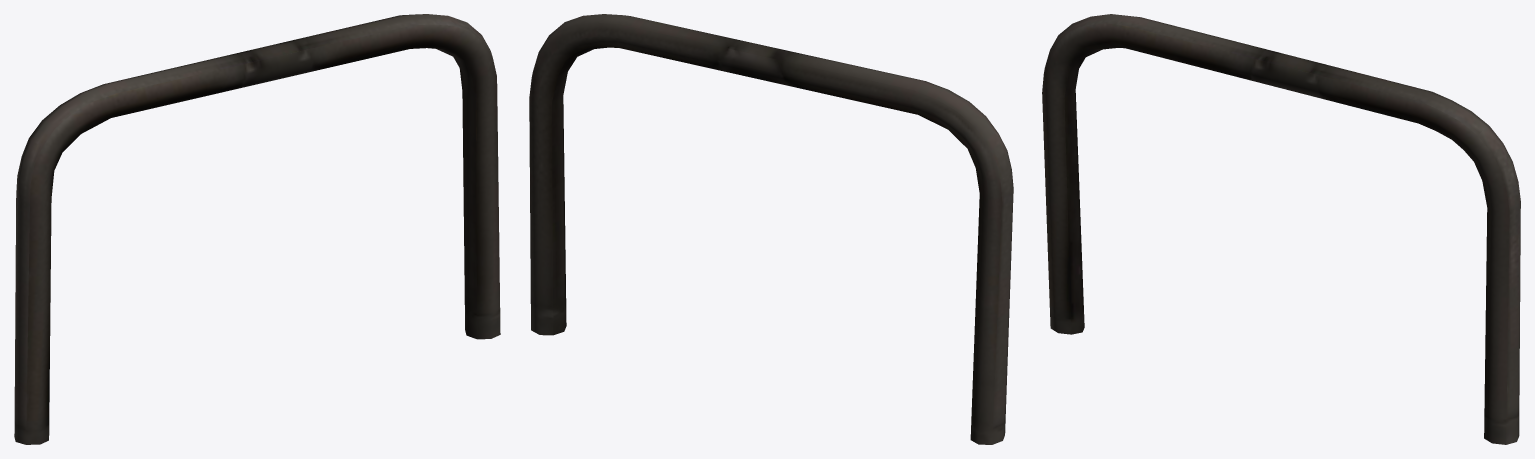
The model's file is OparetionRoom_AI_Prop.011.fbx.
The picture shows the model from 3 angles, left to right: view 1: azimuth 30°, elevation 25°; view 2: azimuth 150°, elevation 25°; view 3: azimuth 330°, elevation 25°; orthographic projection. The views are drawn at different scales.
Parts seen in each view (by area): view 1: OparetionRoom_AI_Prop.011; view 2: OparetionRoom_AI_Prop.011; view 3: OparetionRoom_AI_Prop.011.
Part boxes in pixels (left/top/right/bottom): OparetionRoom_AI_Prop.011: left=14, top=14, right=500, bottom=444; OparetionRoom_AI_Prop.011: left=529, top=14, right=1013, bottom=444; OparetionRoom_AI_Prop.011: left=1042, top=14, right=1520, bottom=444.
Bounding box in the file's own units: 19.09 × 12.89 × 1.6.
